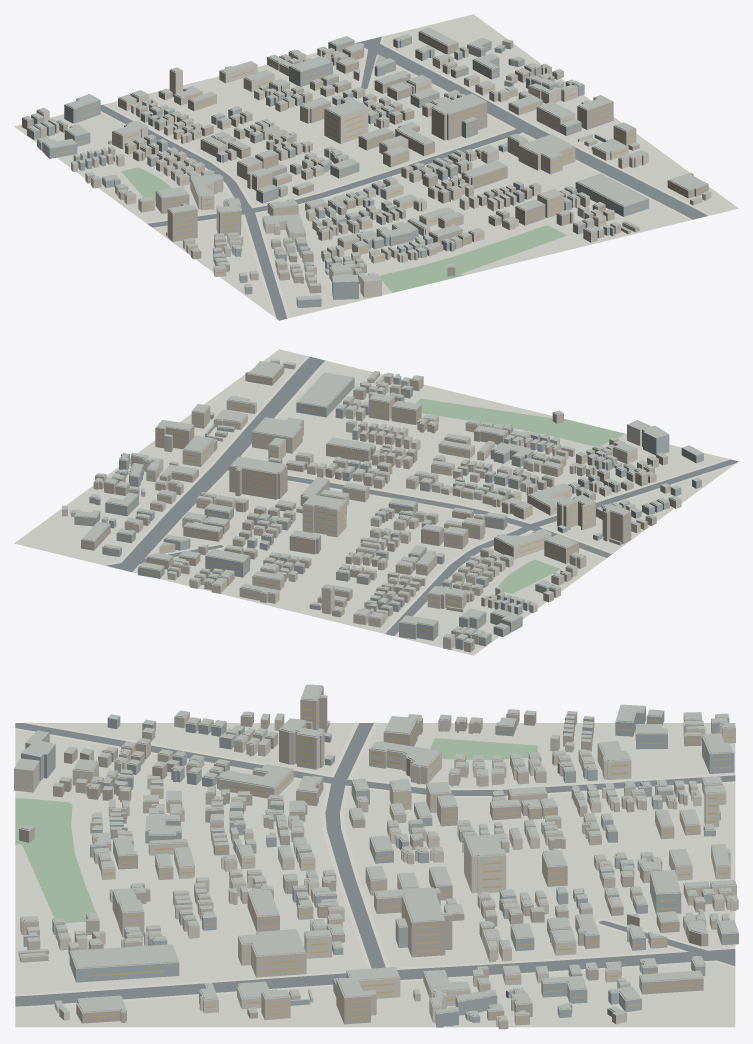
The picture shows the model from 3 angles, top to bottom: view 1: azimuth 30°, elevation 25°; view 2: azimuth 150°, elevation 25°; view 3: azimuth 270°, elevation 25°; orthographic projection. The views are drawn at different scales.
Parts seen in each view (by area): view 1: city; view 2: city; view 3: city.
Boxes of the visible parts, <box> form: city: <box>14,14,738,320</box>; city: <box>14,349,738,655</box>; city: <box>14,684,738,1029</box>.
Bounding box in the file's own units: 511 × 30.2 × 503.
